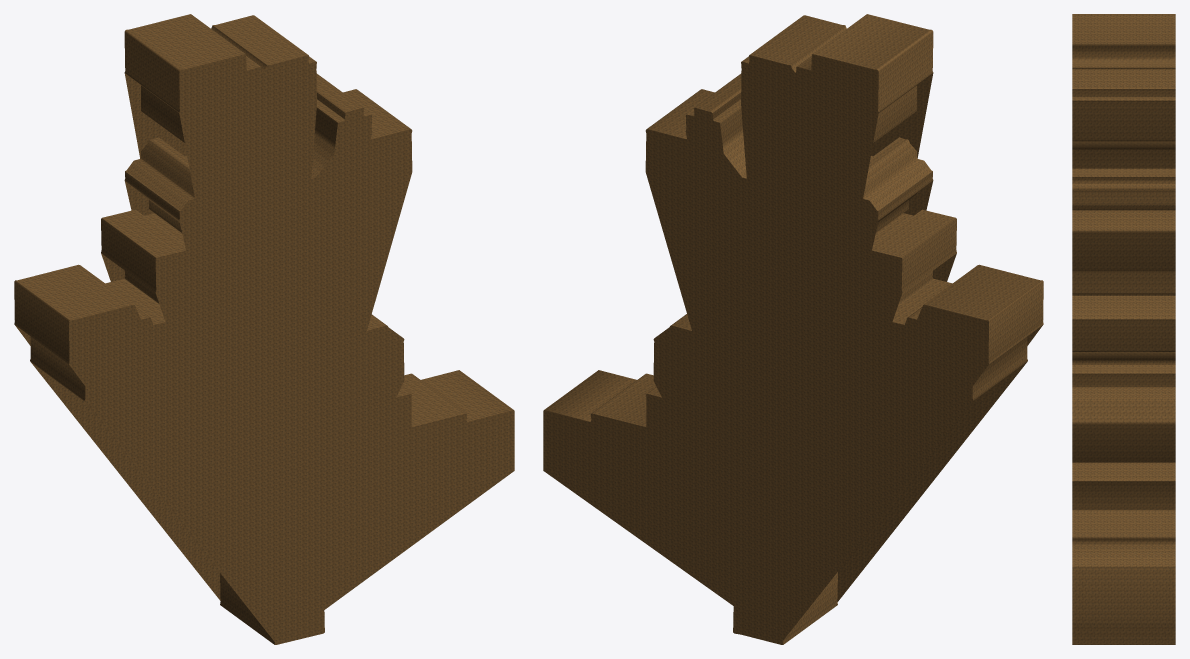
3 views of the same model, side by side, from view 1: azimuth 30°, elevation 25°; view 2: azimuth 150°, elevation 25°; view 3: azimuth 270°, elevation 25° (orthographic). The views are drawn at different scales.
Visible parts, largest first — view 1: level1; view 2: level1; view 3: level1.
Part boxes in pixels (x1,y1,x2,y2): level1: [14, 14, 514, 644]; level1: [543, 14, 1043, 644]; level1: [1072, 14, 1175, 644].
Size of the model in its own units: 37.69 by 48.36 by 8.
